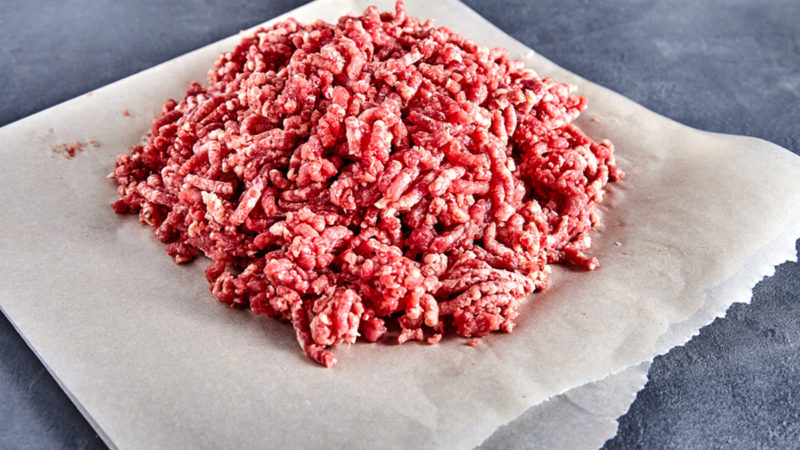ground_beef: (214, 39, 511, 291)
